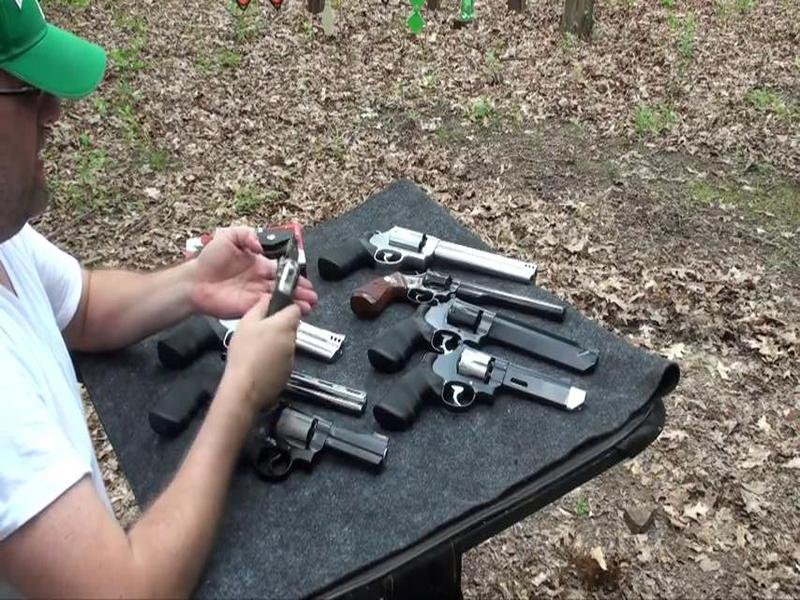Revolver: (367, 292, 606, 373)
